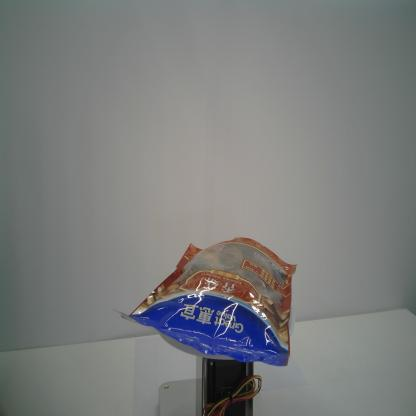Dried Food: (106, 235, 298, 367)
